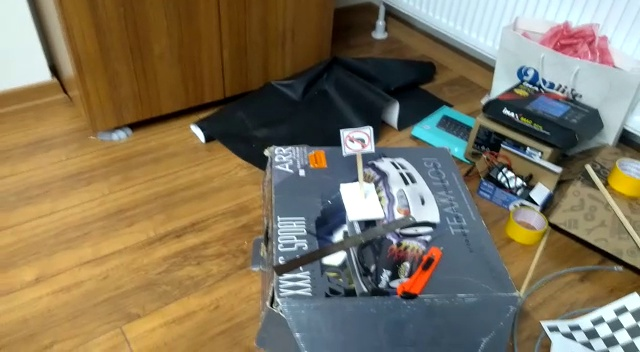sola_donulmez: (344, 128, 372, 153)
